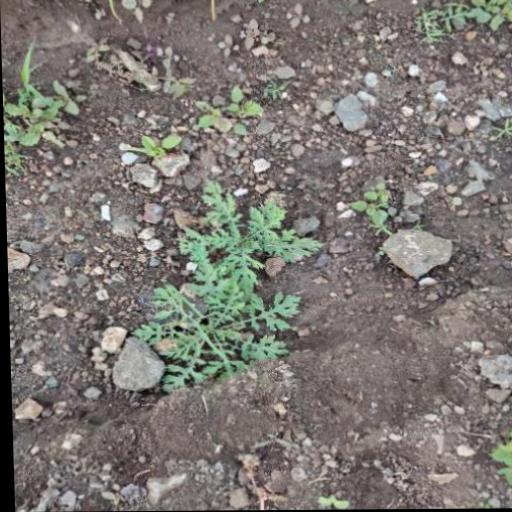weed: (138, 203, 303, 381), (2, 63, 75, 184), (349, 153, 413, 260)
